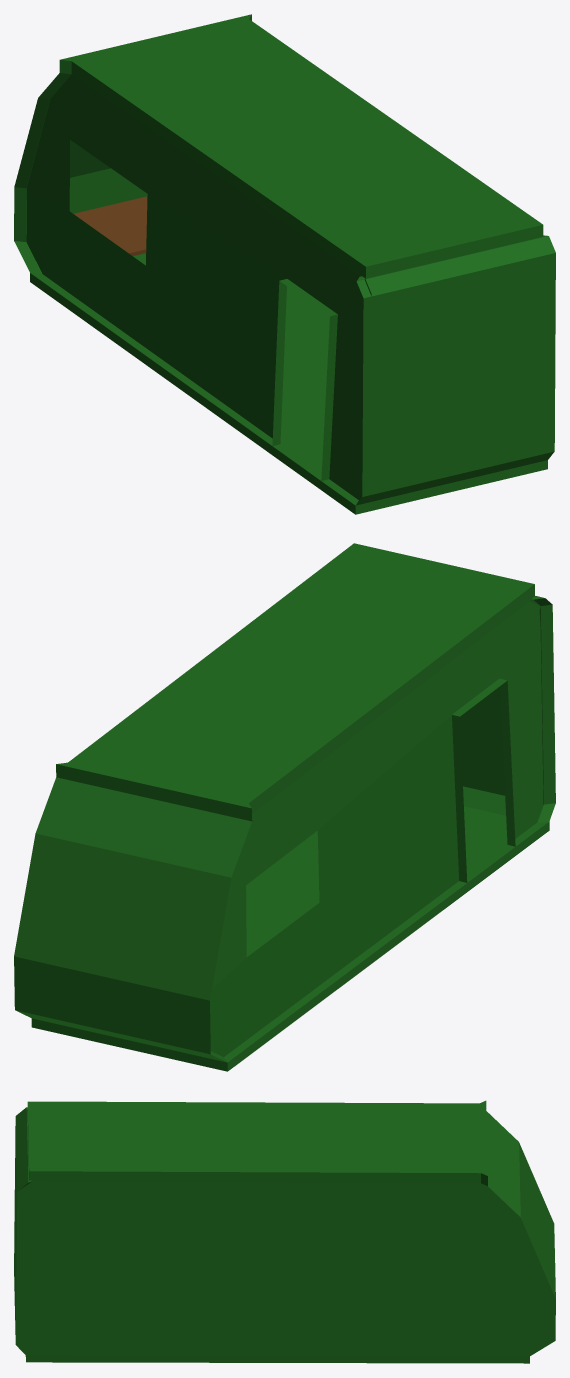
File: 15.Caravan.fbx
3 views of the same model, one above another, from view 1: azimuth 30°, elevation 25°; view 2: azimuth 150°, elevation 25°; view 3: azimuth 270°, elevation 25° (orthographic). The views are drawn at different scales.
Visible parts, largest first — view 1: Cube.164, Cube.170; view 2: Cube.164; view 3: Cube.164.
Part boxes in pixels (left/top/right/bottom): Cube.164: left=14, top=14, right=555, bottom=514; Cube.170: left=73, top=196, right=147, bottom=255; Cube.164: left=14, top=543, right=555, bottom=1071; Cube.164: left=14, top=1100, right=555, bottom=1363.
Bounding box in the file's own units: 247 × 294 × 745.
